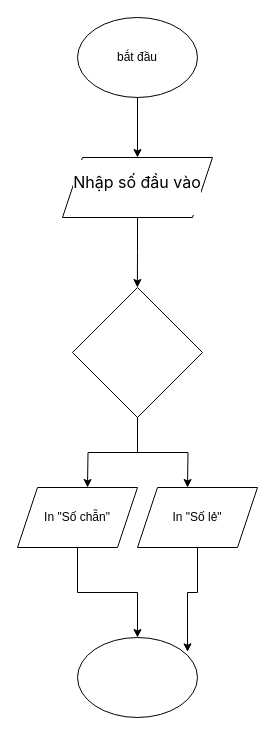
Image size: 275x735. Some labels were removed from this diagram. The centre of each missing label's shape, as x and y in pixels:
Kiểm tra số % 2 == 0: pixel 137 352
kết thúc: pixel 137 677
